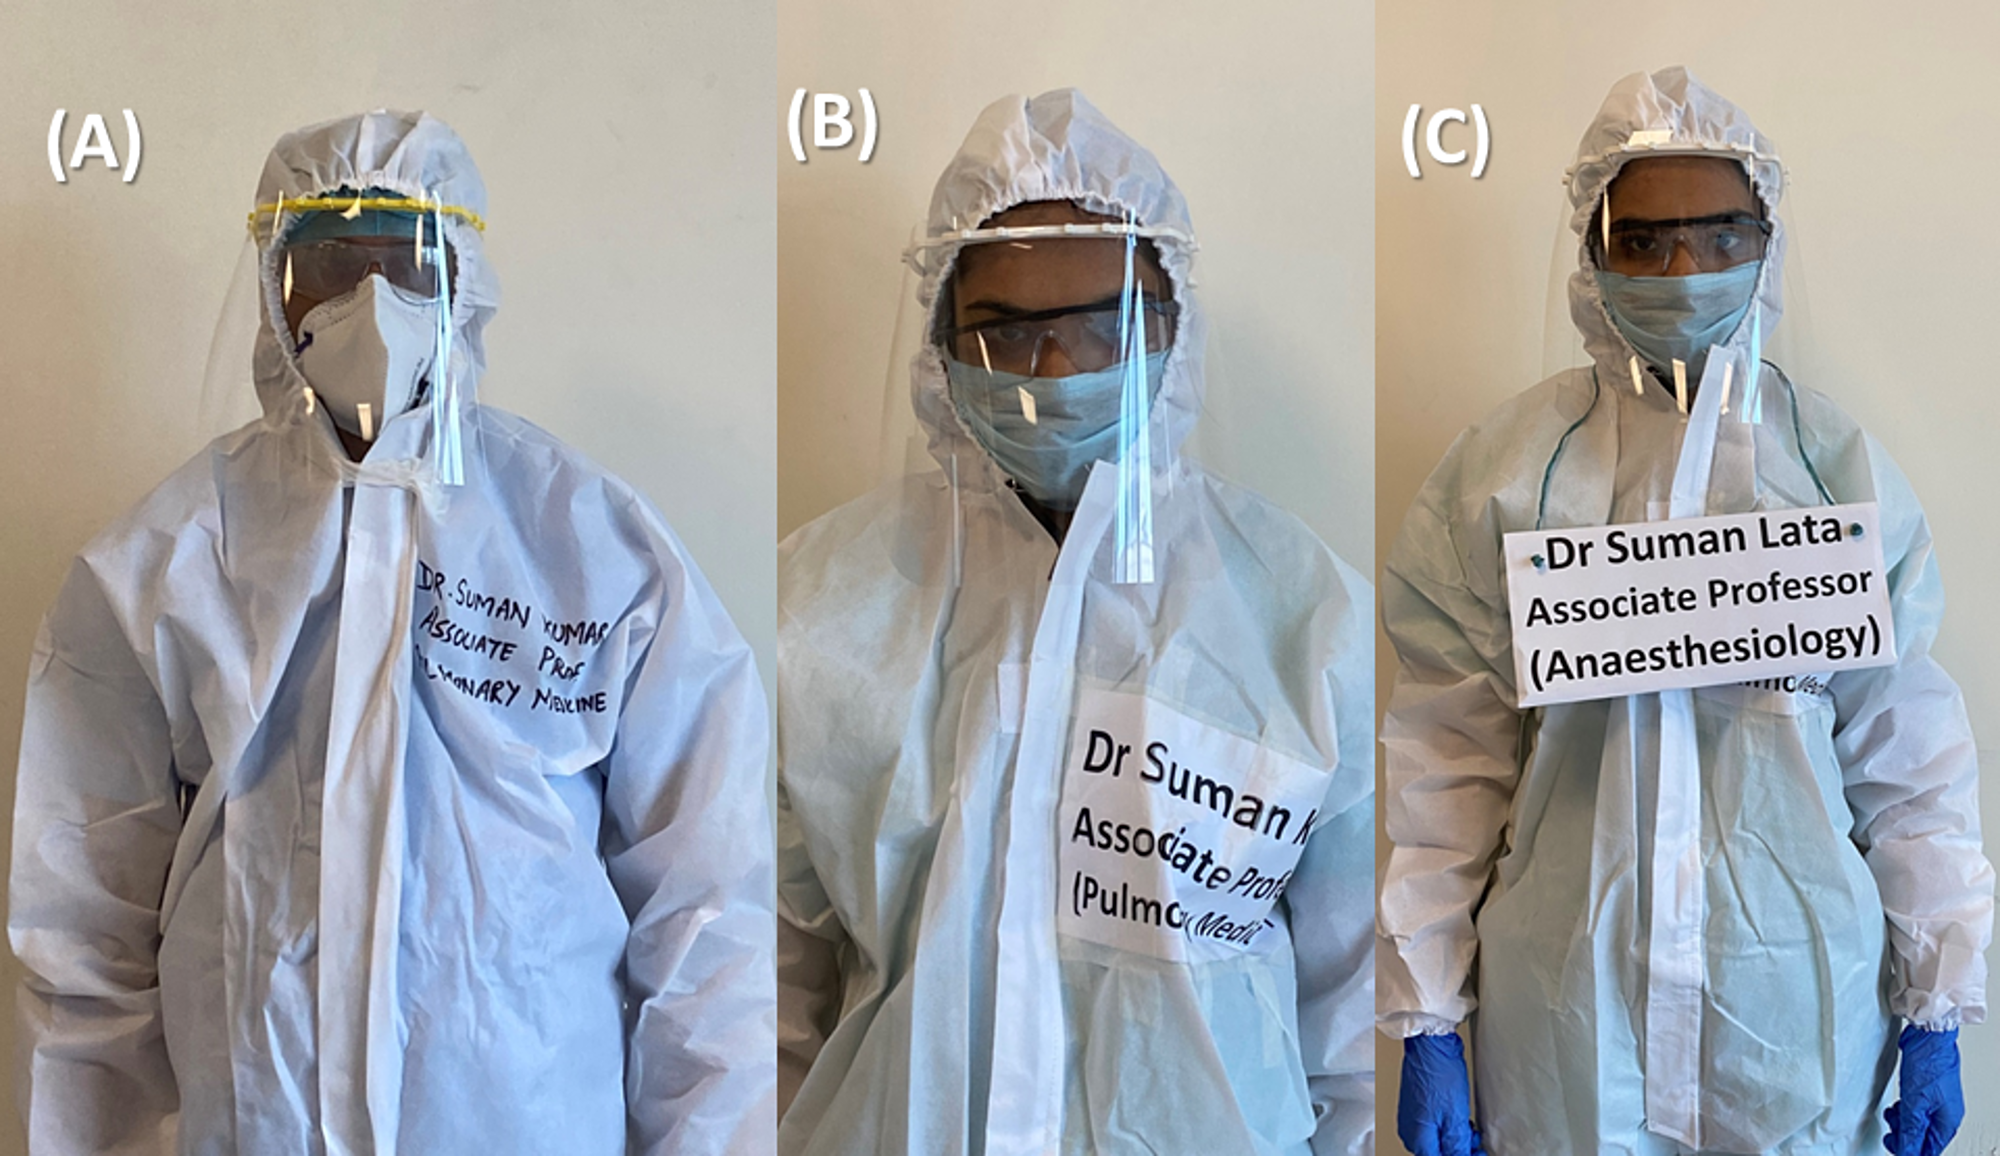Coverall: (24, 117, 770, 1156), (787, 89, 1370, 1156), (1374, 70, 1989, 1032)
Gloves: (1391, 1028, 1496, 1156), (1878, 1037, 1982, 1156)
with_mask: (946, 356, 1176, 507), (289, 260, 459, 422), (1593, 257, 1765, 387)
